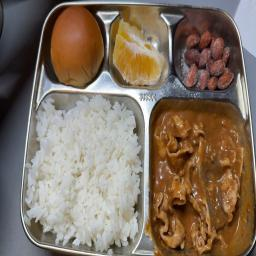100_beef: (153, 104, 244, 243)
100_bread: (50, 5, 105, 84)
100_nuts: (175, 22, 233, 91)
100_orange: (110, 11, 165, 88)
100_rice: (35, 91, 139, 245)
